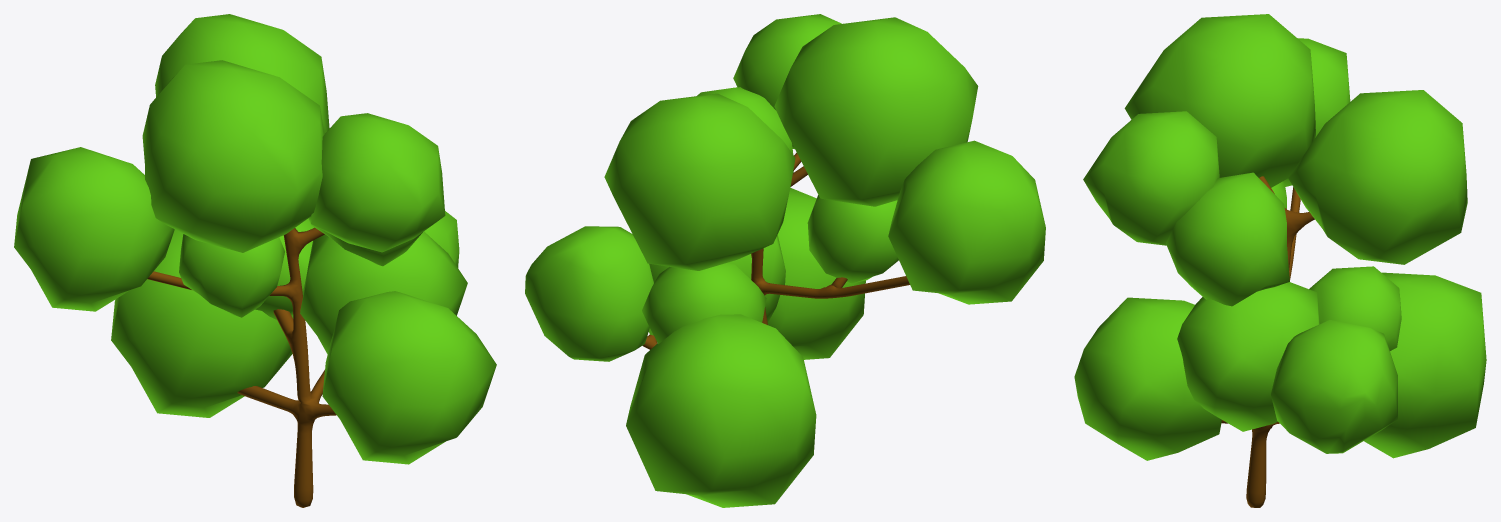
File: Bush.glb
The picture shows the model from 3 angles, left to right: view 1: azimuth 30°, elevation 25°; view 2: azimuth 150°, elevation 25°; view 3: azimuth 270°, elevation 25°; orthographic projection. The views are drawn at different scales.
Visible parts, largest first — view 1: Bush; view 2: Bush; view 3: Bush.
Boxes of the visible parts, <box> form: Bush: <box>14,14,496,507</box>; Bush: <box>525,14,1045,507</box>; Bush: <box>1074,14,1486,507</box>.
Bounding box in the file's own units: 2.46 × 2.39 × 2.01.
1 material, 1 textured.
